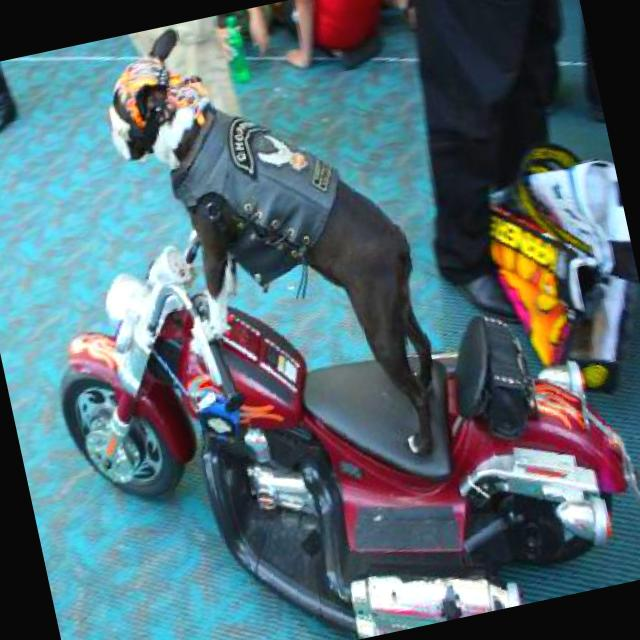Person: (377, 0, 637, 334), (128, 12, 250, 142), (272, 0, 393, 79), (218, 4, 280, 59), (0, 60, 20, 147)
